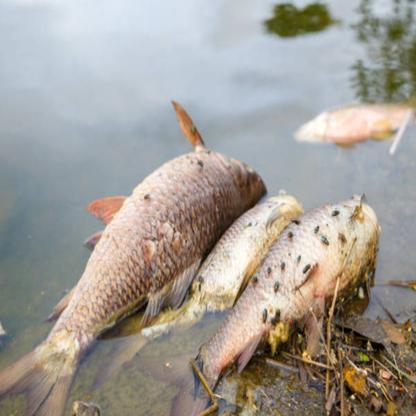deceased fish: (29, 99, 269, 416), (214, 187, 383, 389)
